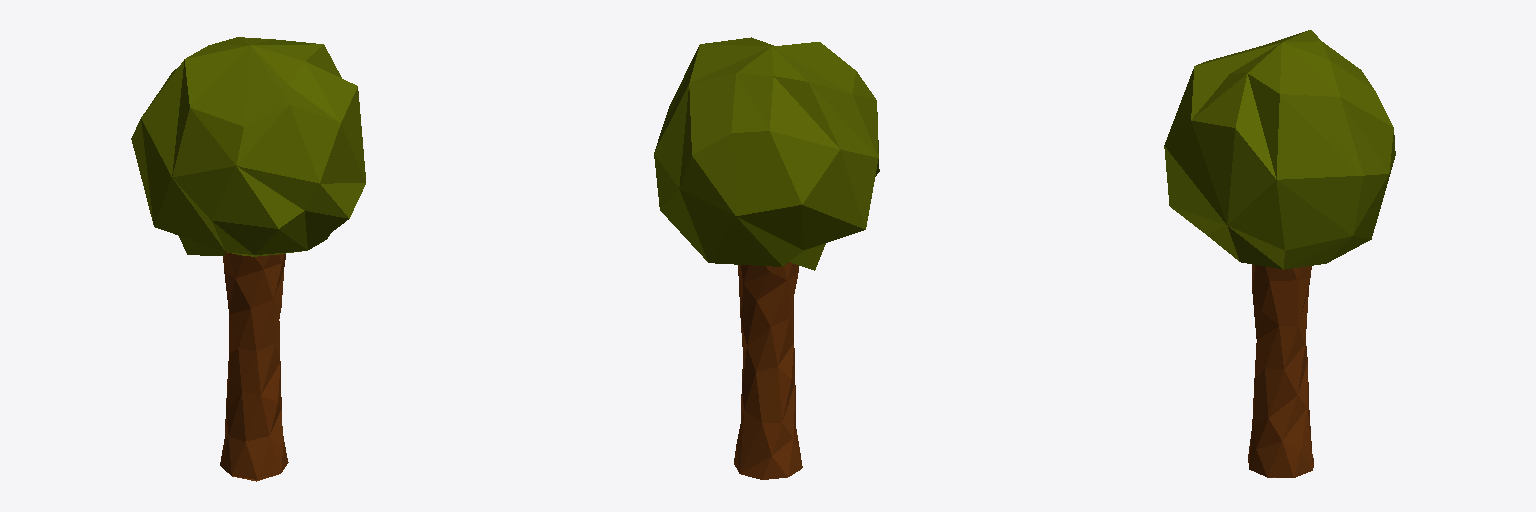
File: tree1.obj
3 renders of one model, left to right at view 1: azimuth 30°, elevation 25°; view 2: azimuth 150°, elevation 25°; view 3: azimuth 270°, elevation 25°, orthographic.
Visible parts, largest first — view 1: Sphere.1, Cylinder; view 2: Sphere.1, Cylinder; view 3: Sphere.1, Cylinder.
Part boxes in pixels (bbox=[...]): Sphere.1: bbox=[131, 37, 365, 256]; Cylinder: bbox=[220, 252, 288, 481]; Sphere.1: bbox=[654, 37, 879, 270]; Cylinder: bbox=[734, 262, 802, 479]; Sphere.1: bbox=[1164, 30, 1395, 269]; Cylinder: bbox=[1248, 264, 1313, 477].
Bounding box in the file's own units: 182 × 366 × 182.